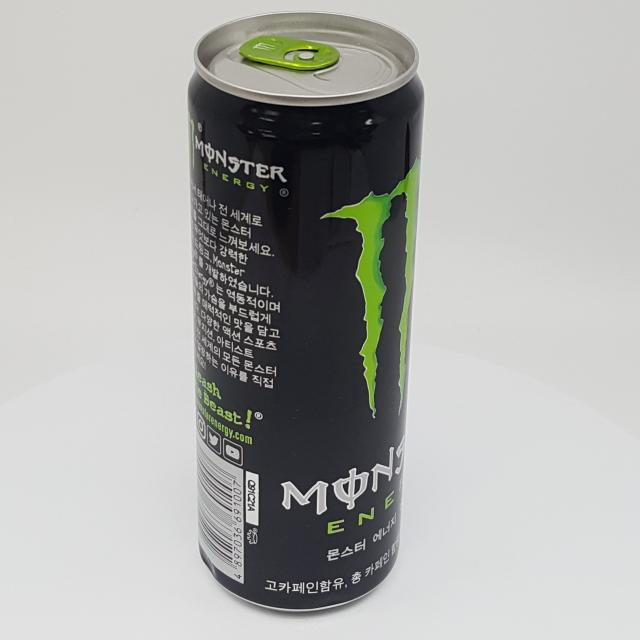--------355ML: (186, 10, 424, 613)
